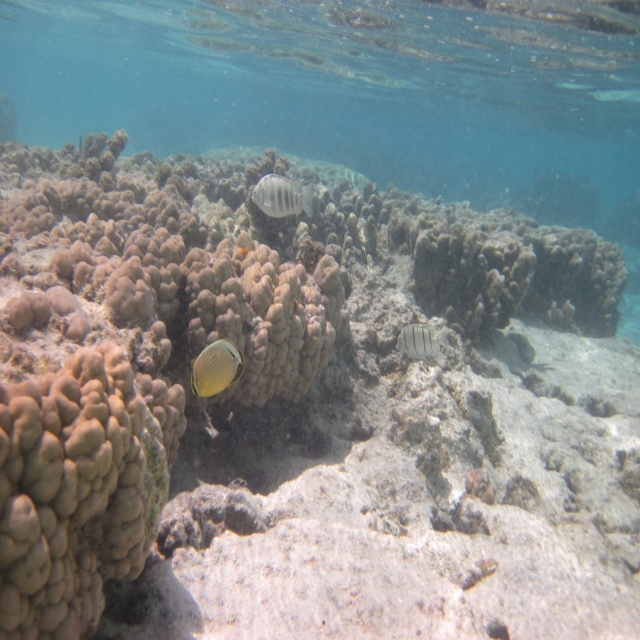Fish: (190, 338, 245, 397), (251, 174, 314, 217), (395, 324, 452, 361)
